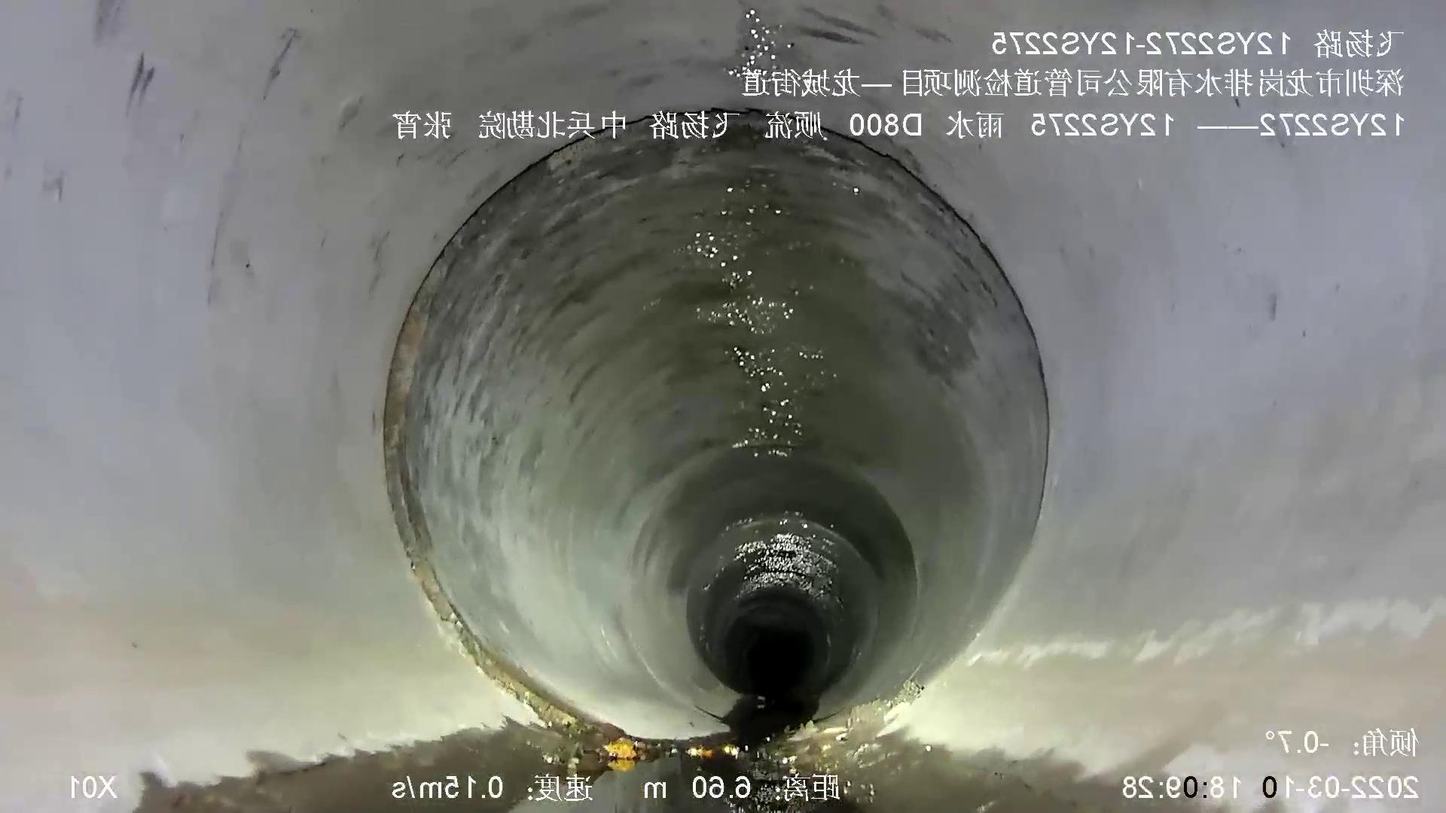CKTJ: (383, 108, 1037, 737)
